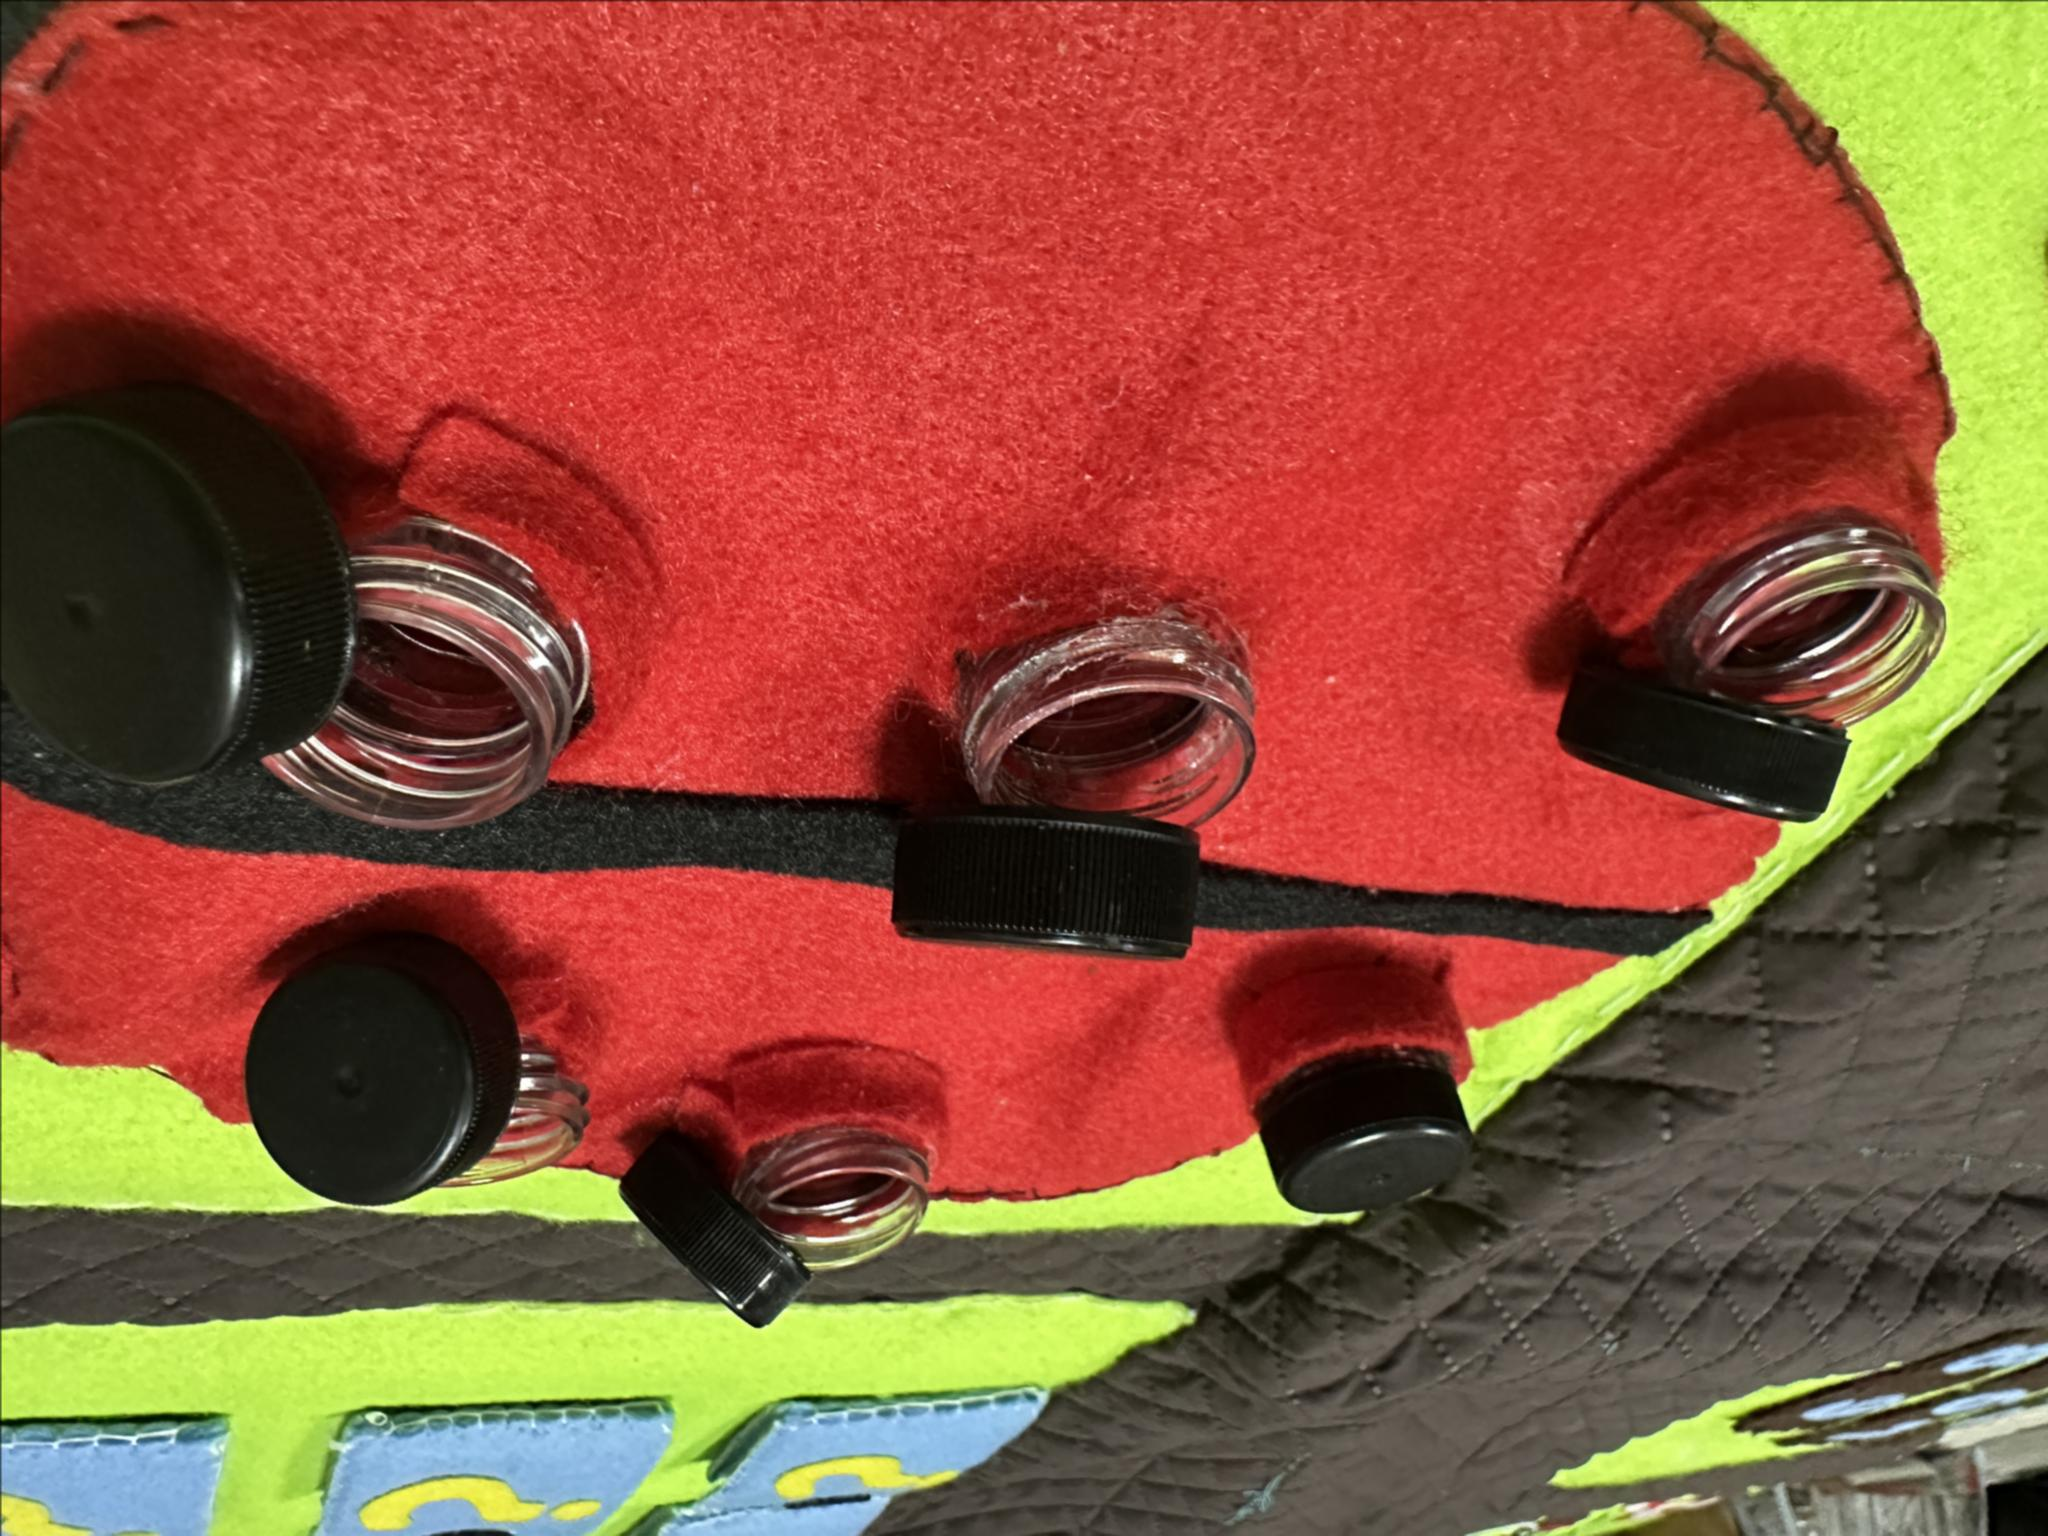cap_ng: (0, 378, 651, 857), (1545, 361, 1959, 844), (877, 553, 1256, 987), (216, 902, 603, 1220), (611, 1028, 963, 1347)
cap_ok: (1226, 942, 1496, 1226)
